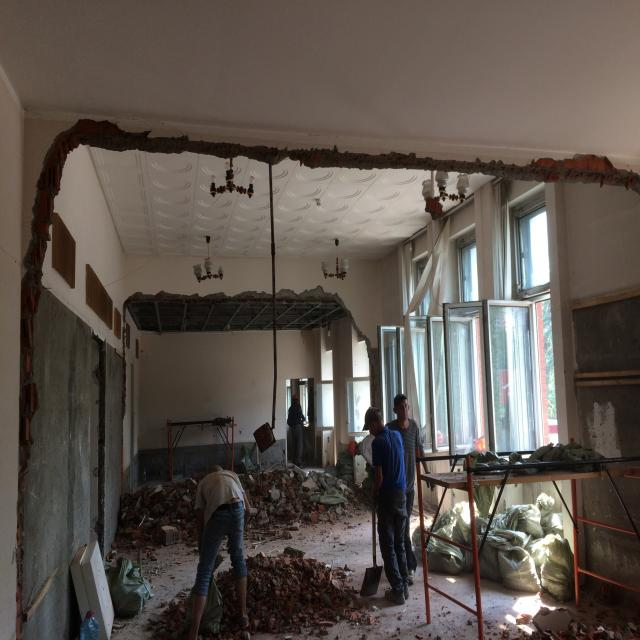Helmet: (349, 439, 361, 462), (292, 395, 301, 405)
NoHelmet: (363, 407, 387, 438), (394, 392, 413, 425)
